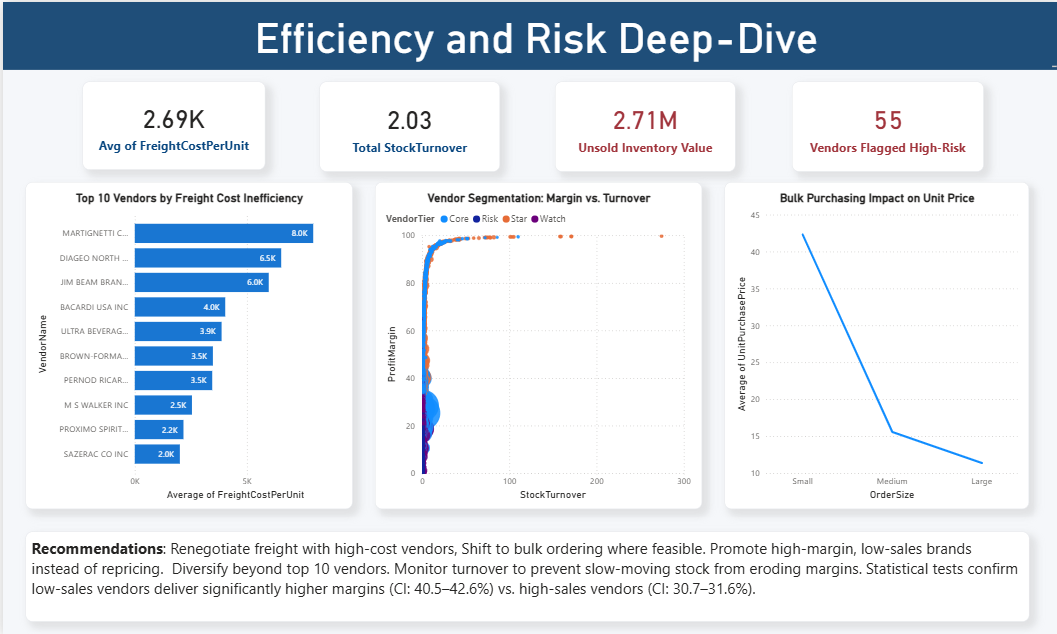

This screenshot's page, from the dashboard's own definition file:
{"tool":"powerbi","page":{"name":"efficiency & risk deep-dive","canvas":[1500,900],"ordinal":1},"visuals":[{"type":"card","fields":{"Values":["Avg(vendor_sales_summary.FreightCostPerUnit)"]},"box":[112,112,259,125],"z":0},{"type":"card","fields":{"Values":["vendor_sales_summary.Unsold Inventory Value"]},"box":[784,112,256,128],"z":1000},{"type":"card","fields":{"Values":["Avg(vendor_sales_summary.StockTurnover)"]},"box":[448,112,256,128],"z":2000},{"type":"card","fields":{"Values":["vendor_sales_summary.Vendors Flagged High-Risk"]},"box":[1120,112,272,128],"z":3000},{"type":"clusteredBarChart","title":"Top 10 Vendors by Freight Cost Inefficiency","fields":{"Category":["vendor_sales_summary.VendorName"],"Y":["Avg(vendor_sales_summary.FreightCostPerUnit)"]},"box":[32,256,464,464],"z":4000},{"type":"scatterChart","title":"Vendor Segmentation: Margin vs. Turnover","fields":{"X":["vendor_sales_summary.StockTurnover"],"Y":["vendor_sales_summary.ProfitMargin"],"Size":["Sum(vendor_sales_summary.TotalSalesDollars)"],"Series":["vendor_sales_summary.VendorTier"]},"box":[528,256,464,464],"z":5000},{"type":"lineChart","title":"Bulk Purchasing Impact on Unit Price","fields":{"Category":["vendor_sales_summary.OrderSize"],"Y":["Avg(vendor_sales_summary.UnitPurchasePrice)"]},"box":[1024,256,432,464],"z":6000},{"type":"textbox","box":[32,752,1424,128],"z":7000},{"type":"shape","box":[-4,0,1504,96],"z":8000},{"type":"textbox","title":"Efficiency and Risk Deep-Dive","box":[12,16,1488,80],"z":9000}]}

Visuals, with their boxes in screenshot pixels (x1, y1, x2, y2), scaled from the page's 1500x900 canvas onto the 1057x634 screenshot:
card - Avg(vendor_sales_summary.FreightCostPerUnit): 79:79:261:167
card - vendor_sales_summary.Unsold Inventory Value: 552:79:733:169
card - Avg(vendor_sales_summary.StockTurnover): 316:79:496:169
card - vendor_sales_summary.Vendors Flagged High-Risk: 789:79:981:169
"Top 10 Vendors by Freight Cost Inefficiency" clusteredBarChart: 23:180:350:507
"Vendor Segmentation: Margin vs. Turnover" scatterChart: 372:180:699:507
"Bulk Purchasing Impact on Unit Price" lineChart: 722:180:1026:507
textbox: 23:530:1026:620
shape: 0:0:1056:68
"Efficiency and Risk Deep-Dive" textbox: 8:11:1056:68
